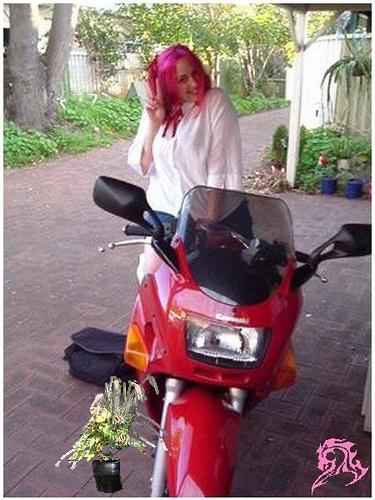tampered: (56, 375, 171, 493)
